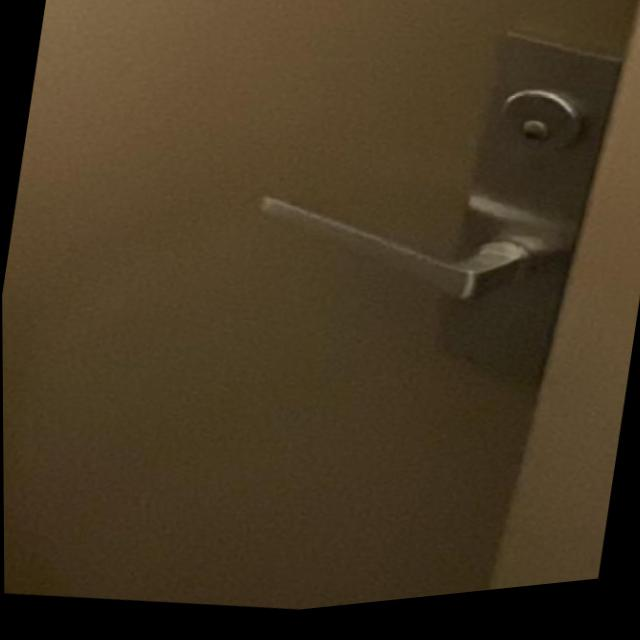door_handle: (218, 133, 611, 375)
